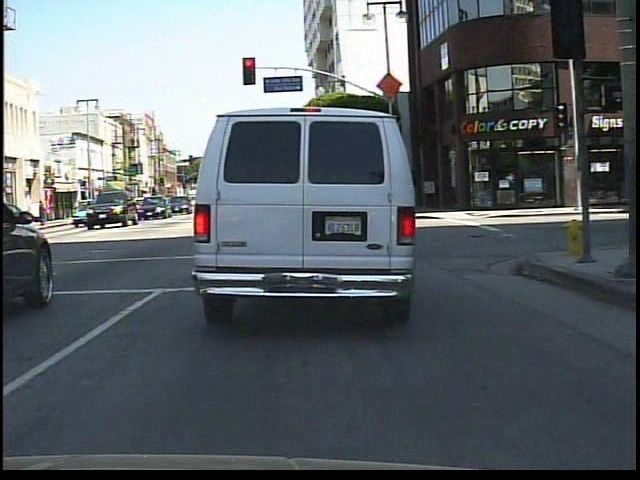person: (37, 197, 49, 228)
